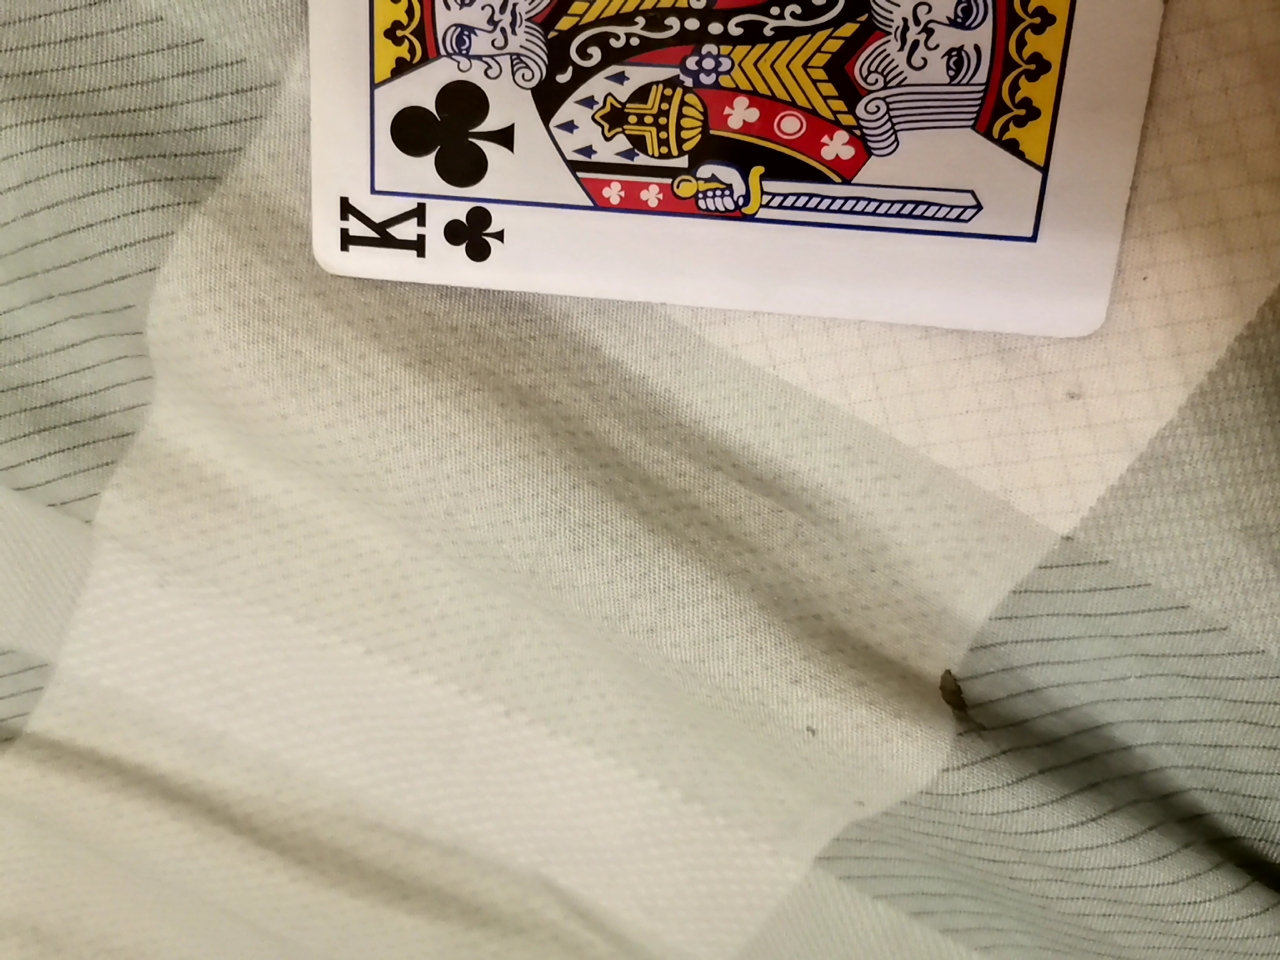mh k: (278, 0, 1165, 325)
